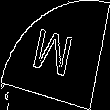M_S: (31, 25, 79, 85)
